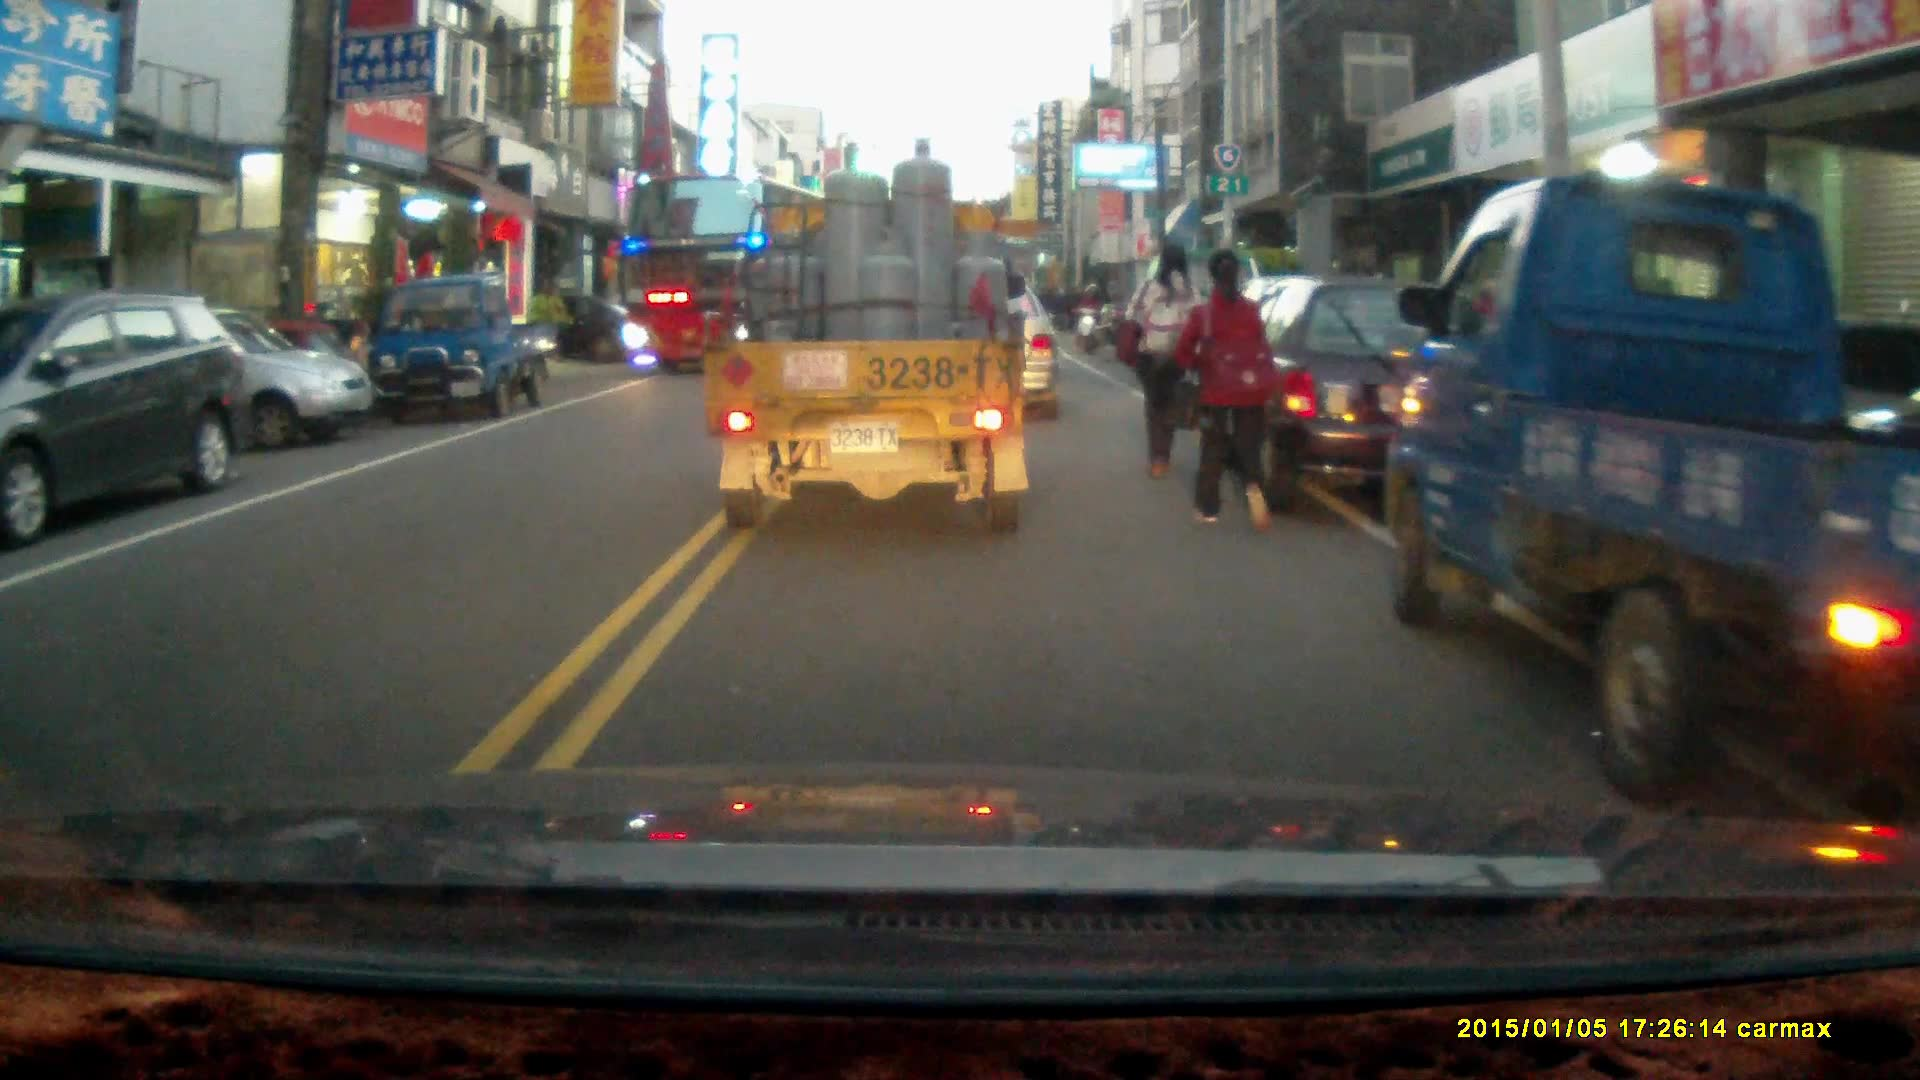pedestrian: (1170, 247, 1284, 535), (1119, 241, 1202, 481)
rider: (1076, 279, 1112, 352)
vehicle: (1384, 168, 1920, 794), (704, 133, 1037, 539), (1220, 277, 1533, 531), (1, 286, 253, 536), (619, 169, 867, 378), (45, 302, 372, 457), (368, 277, 552, 418)
